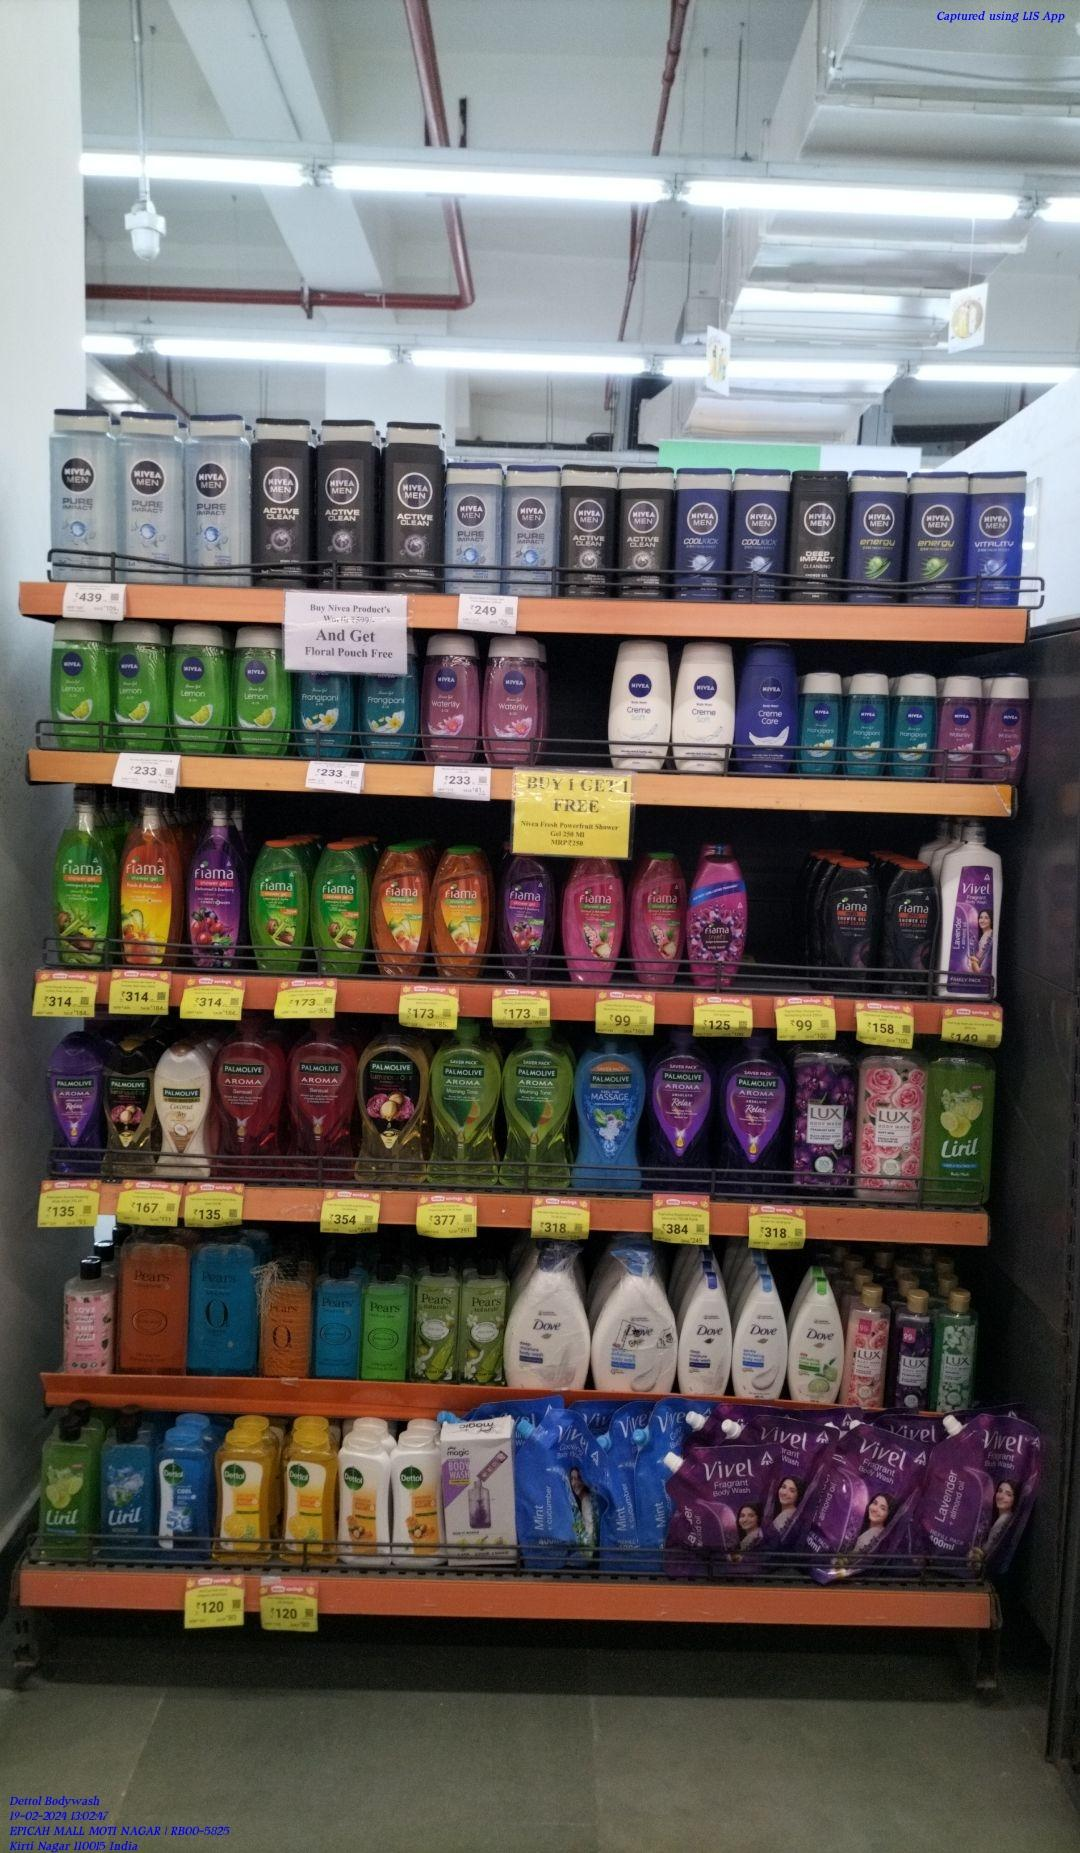Dettol_Bodywash_Cool: (159, 1429, 212, 1561)
Dettol_Bodywash_Refresh: (216, 1421, 273, 1559), (280, 1420, 332, 1563)
Dove_Deep_Moisture_Body_Wash_250ML: (680, 1275, 729, 1397)
Dove_Gentle_Exfoliating_Body_Wash_250ML: (733, 1277, 788, 1399)
Dove_Refreshing_Body_Wash_250ML: (791, 1281, 849, 1402)
Fiama_Shower_Gel_Lemongrass_and_Jojoba_250ML: (252, 842, 312, 975), (311, 846, 360, 973)
Fiama_Shower_Gel_Patchouli_and_Macadamia_250ML: (566, 849, 627, 983), (630, 851, 685, 983)
Fiama_Shower_Gel_Peach_and_Avocado_250ML: (373, 839, 432, 979), (433, 839, 491, 978)
Liril_Cooling_Mint_Body_Wash_250ML: (104, 1420, 156, 1555)
Liril_Lime_and_Tea_Tree_Oil_Body_Wash_250ML: (40, 1425, 99, 1560)
Lux_Black_Orchid_Scent_and_Juniper_Oil_Body_Wash_245ML: (896, 1290, 935, 1411)
Lux_Body_Wash_Skin_Detox_Freesia_Scent_and_Alove_Vera_245ML: (933, 1293, 976, 1415)
Nivea_Shower_Gel_Frangipani_and_Oil_250ML: (890, 671, 932, 786), (845, 672, 888, 771), (801, 668, 840, 768)
Nivea_Shower_Gel_Lemon_and_Oil_250ML: (50, 617, 109, 748), (230, 627, 292, 750), (167, 627, 224, 757), (109, 622, 163, 749)
Nivea_Shower_Gel_Waterlily_and_Oil_250ML: (477, 637, 541, 763), (423, 632, 476, 763), (982, 677, 1031, 776), (935, 668, 978, 776)
Pears_Naturale_Aloe_Vera_Body_Wash_250ML: (460, 1271, 504, 1388), (413, 1268, 458, 1374)
Pears_Pure_Glycerin_and_Lemon_Flower_Extracts_Body_Wash_250ML: (366, 1273, 409, 1379)
Pears_Pure_Glycerin_and_Mint_Extracts_Body_Wash_250ML: (315, 1267, 363, 1376)
